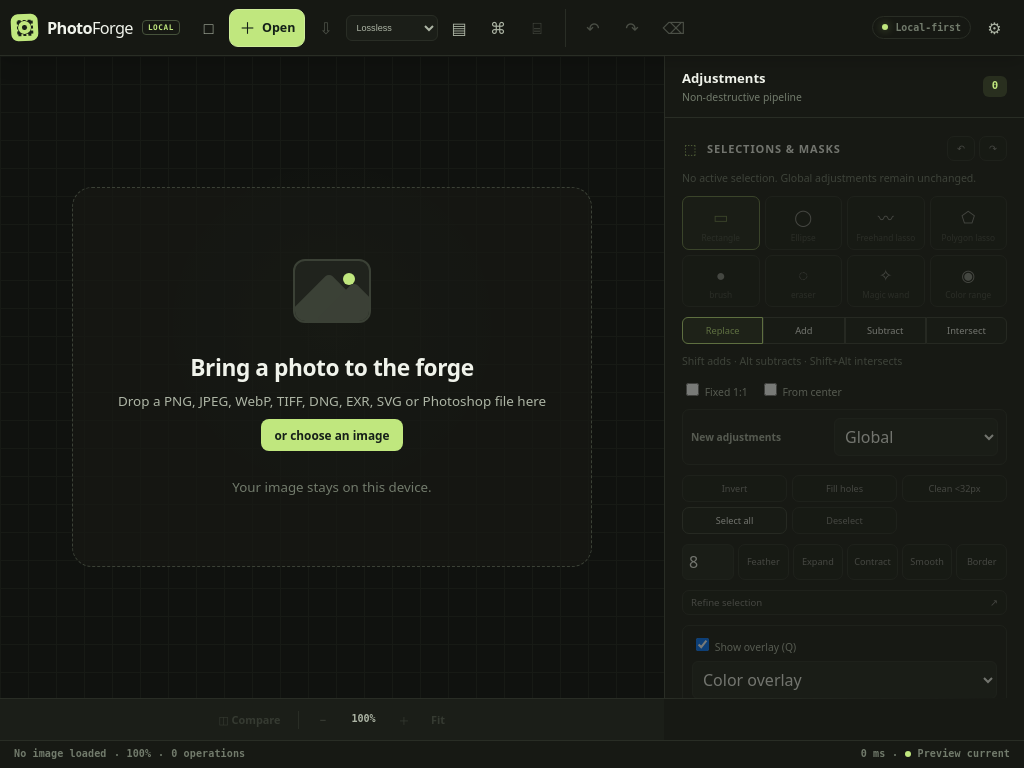
Test: opening a TIFF › sends the file to its own command, not image admission or the other importers
Click the button "＋ Open": (267, 28) x1=229 y1=8 x2=305 y2=46
(page scrolled)
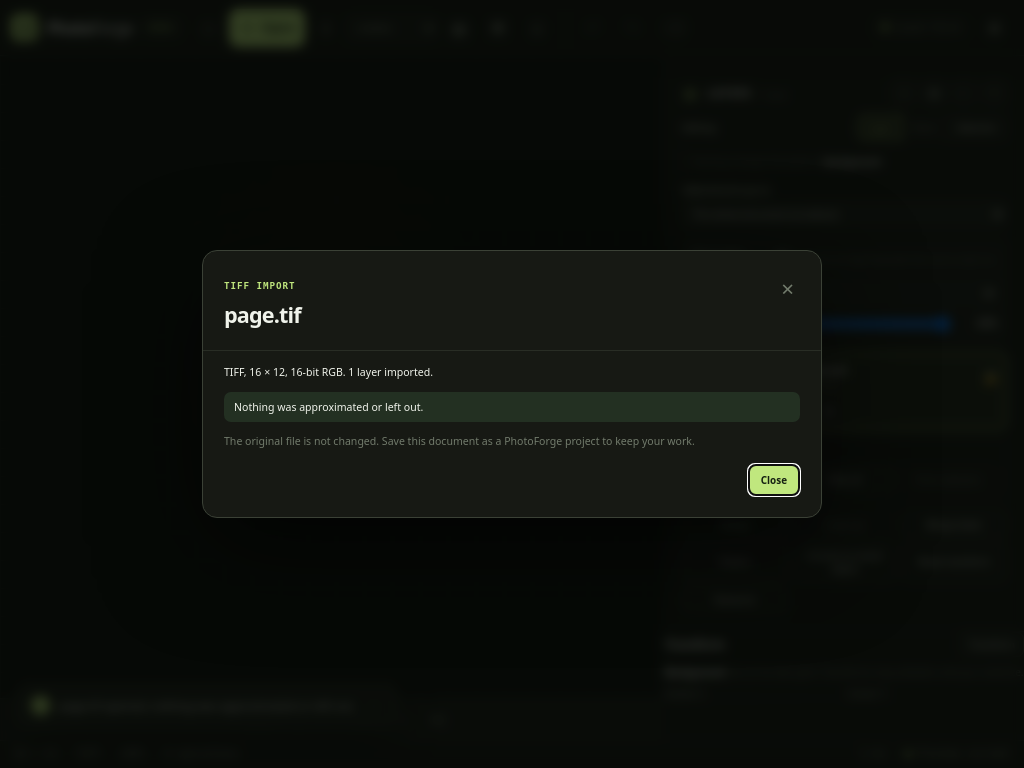
Expected: the dialog "page.tif" is shown, x1=202 y1=250 x2=822 y2=518
Expected: the button with aria-label "Select Background" is shown, x1=739 y1=357 x2=976 y2=397
